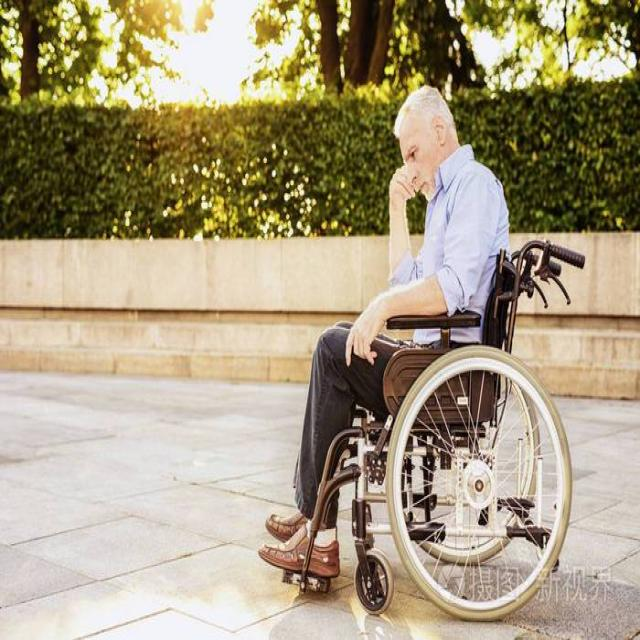wheelchairs: (272, 229, 590, 628)
